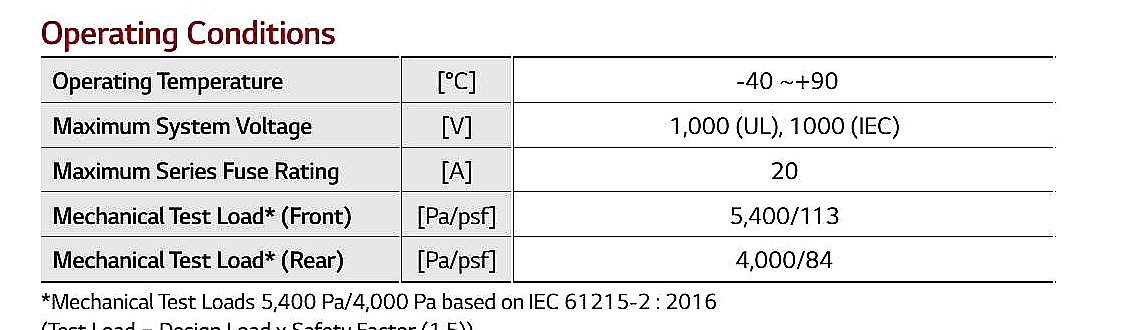table: (24, 10, 1068, 289)
table column: (514, 13, 1062, 284), (31, 13, 399, 285), (400, 13, 514, 281)
table name: (29, 12, 1058, 54)
table row: (31, 239, 1064, 283), (29, 59, 1060, 102), (32, 13, 1059, 55), (32, 194, 1064, 235), (29, 105, 1063, 145), (29, 150, 1062, 190)
table row header: (31, 14, 399, 279), (401, 13, 511, 282)
table spanning cell: (28, 13, 1060, 55)
